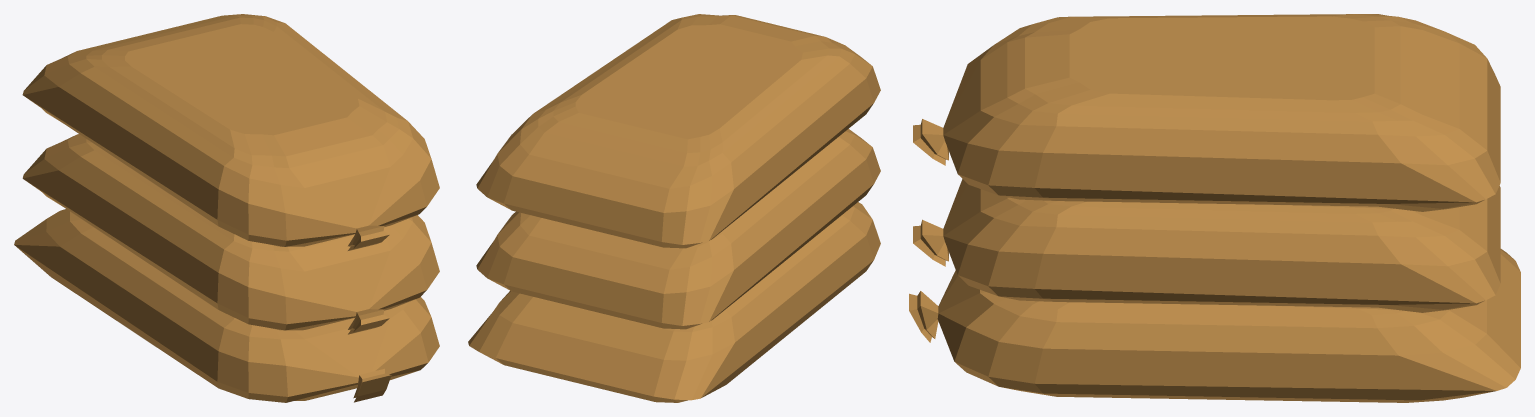
File: 3D_Sandbags-1x3.fbx
3 views of the same model, side by side, from view 1: azimuth 30°, elevation 25°; view 2: azimuth 150°, elevation 25°; view 3: azimuth 270°, elevation 25° (orthographic). The views are drawn at different scales.
Visible parts, largest first — view 1: Cube.005; view 2: Cube.005; view 3: Cube.005.
Boxes of the visible parts, box(x1,y1,x2,y2) form: Cube.005: box(14, 14, 439, 402); Cube.005: box(468, 14, 880, 402); Cube.005: box(909, 14, 1520, 402).
Bounding box in the file's own units: 36.21 × 34.59 × 66.16.
